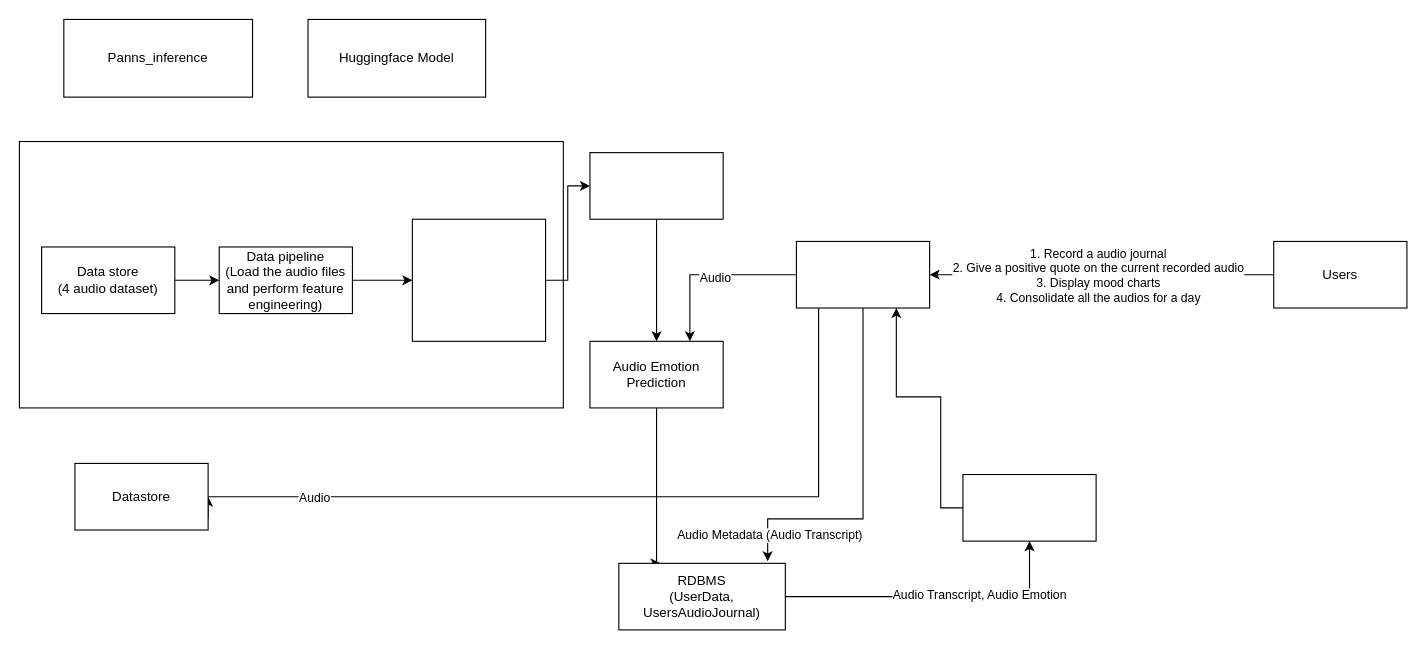
The diagram is 1426 pixels wide and 649 high, and some of its shapes have lost their labels. The box of each missing label's shape, as (x1, y1, x2, y2) in pixels:
LLM: (962, 473, 1096, 541)
Model store: (589, 152, 723, 219)
Model Training Pipeline (Feed the processed data nad train the model ): (411, 218, 546, 341)
UI: (795, 240, 930, 308)
